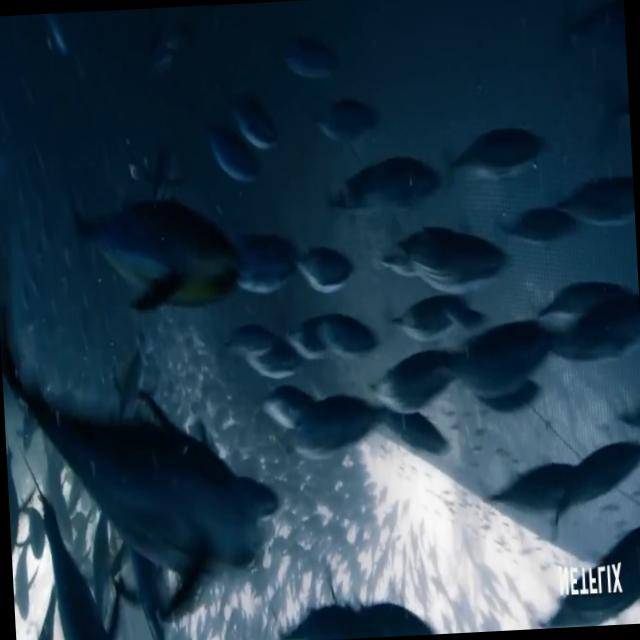fish: (0, 318, 289, 618), (72, 192, 242, 321), (325, 146, 444, 232), (283, 392, 426, 463), (436, 124, 546, 198)
